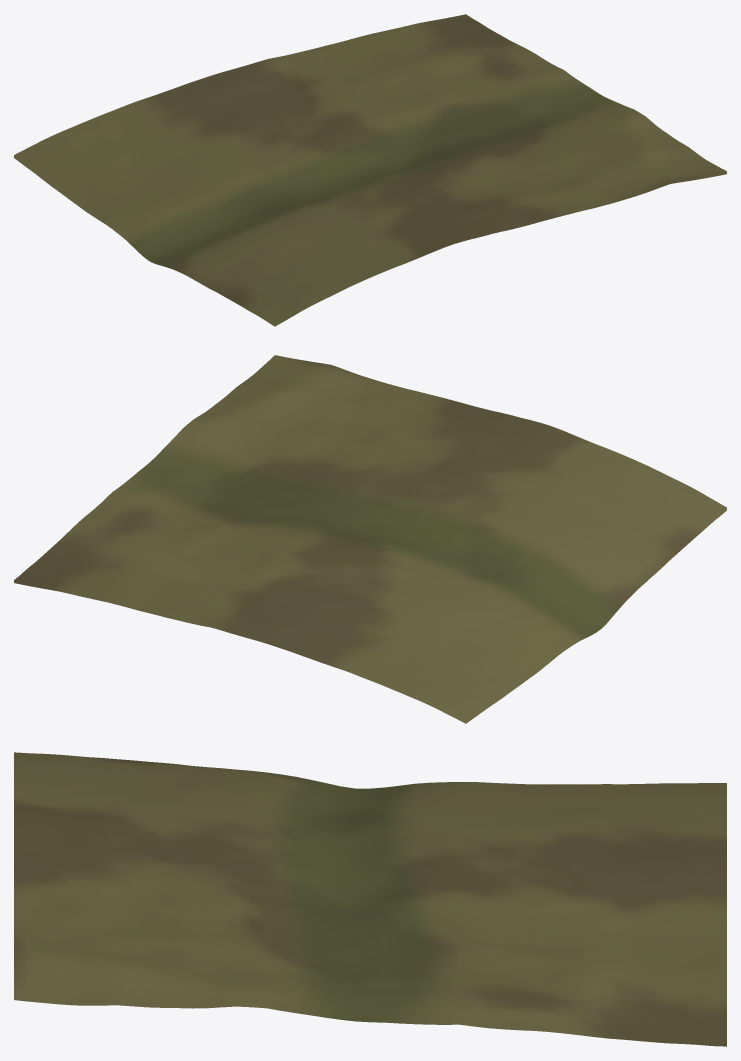
The model's file is land_m_10_04.glb.
3 views of the same model, one above another, from view 1: azimuth 30°, elevation 25°; view 2: azimuth 150°, elevation 25°; view 3: azimuth 270°, elevation 25° (orthographic). The views are drawn at different scales.
Parts seen in each view (by area): view 1: land_m_10_04; view 2: land_m_10_04; view 3: land_m_10_04.
Part boxes in pixels (x1,y1,x2,y2): land_m_10_04: (14,14,726,326); land_m_10_04: (14,355,726,723); land_m_10_04: (14,752,726,1046).
Bounding box in the file's own units: 960 × 154 × 960.
